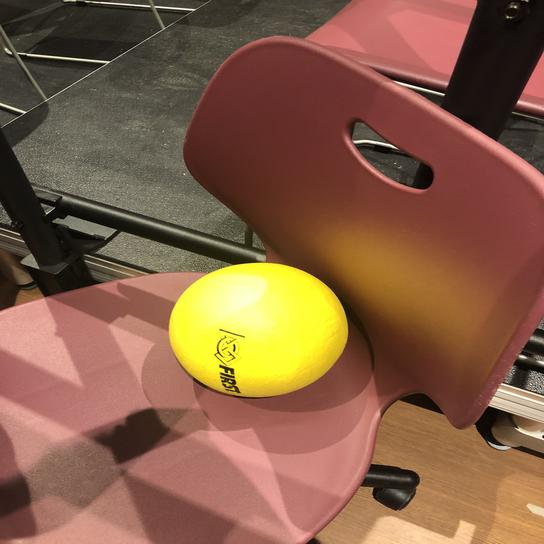ball: (163, 257, 354, 402)
